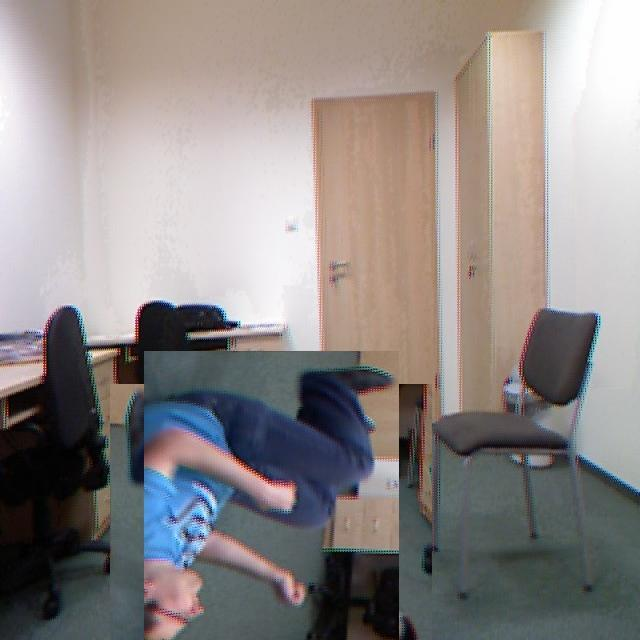Fall: (86, 350, 423, 618)
